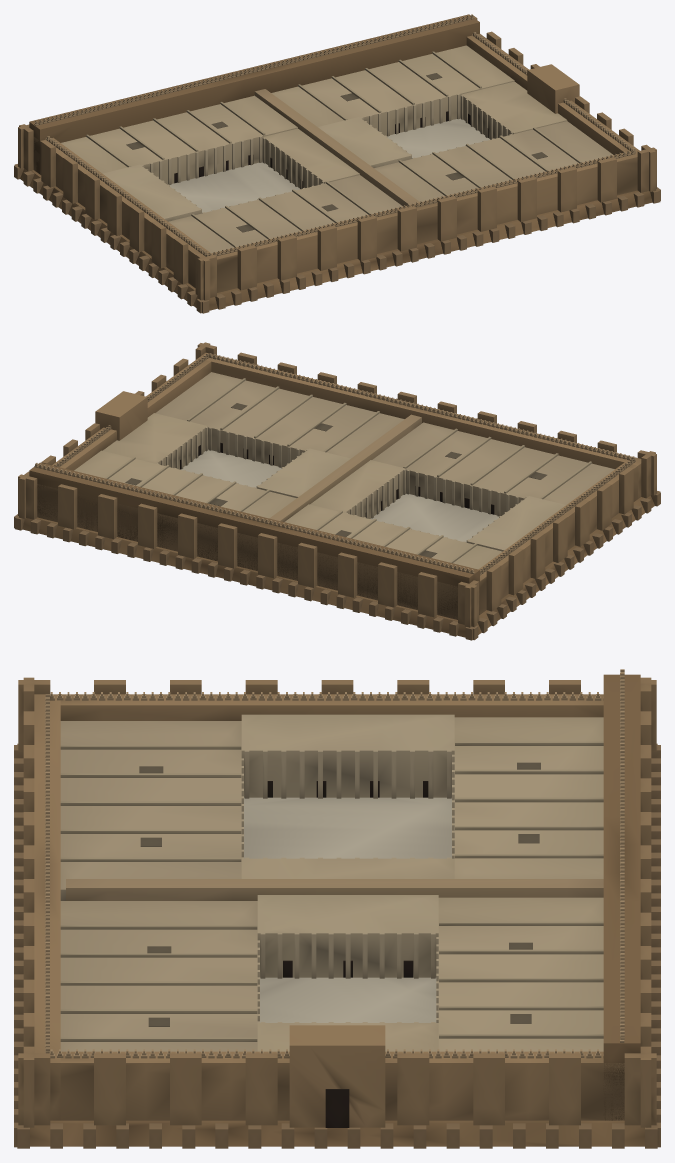
The model's file is northern-palace.glb.
The picture shows the model from 3 angles, top to bottom: view 1: azimuth 30°, elevation 25°; view 2: azimuth 150°, elevation 25°; view 3: azimuth 270°, elevation 25°; orthographic projection. The views are drawn at different scales.
Parts seen in each view (by area): view 1: p1_courts, p0_platform and walls, p2_gate and crenellations; view 2: p0_platform and walls, p1_courts, p2_gate and crenellations; view 3: p1_courts, p0_platform and walls, p2_gate and crenellations.
Part boxes in pixels (left/top/right/bottom): p1_courts: left=61, top=45, right=613, bottom=253; p0_platform and walls: left=14, top=14, right=660, bottom=313; p2_gate and crenellations: left=34, top=14, right=635, bottom=256; p0_platform and walls: left=14, top=342, right=660, bottom=640; p1_courts: left=74, top=372, right=614, bottom=569; p2_gate and crenellations: left=34, top=353, right=635, bottom=575; p1_courts: left=60, top=714, right=603, bottom=1051; p0_platform and walls: left=14, top=674, right=660, bottom=1148; p2_gate and crenellations: left=45, top=669, right=624, bottom=1127.
Bounding box in the file's own units: 172 × 21.44 × 122.
